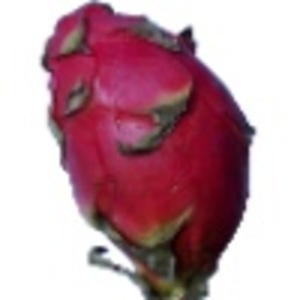pitaia: (41, 1, 257, 300)
